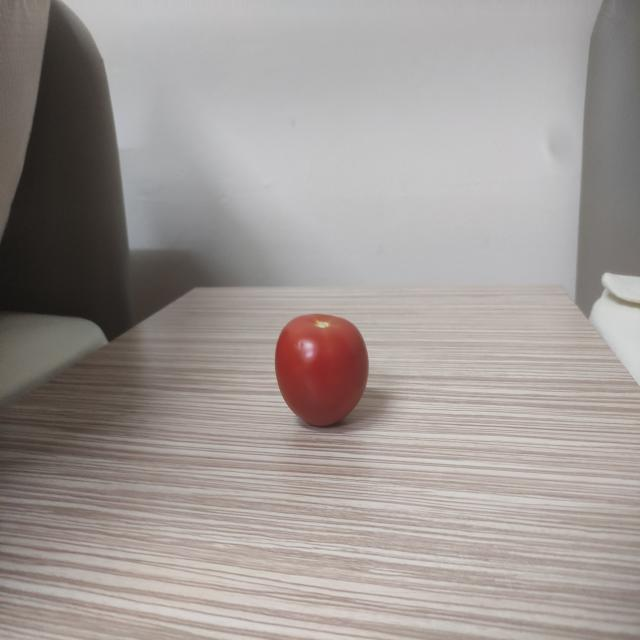kirmizi: (266, 299, 389, 424)
